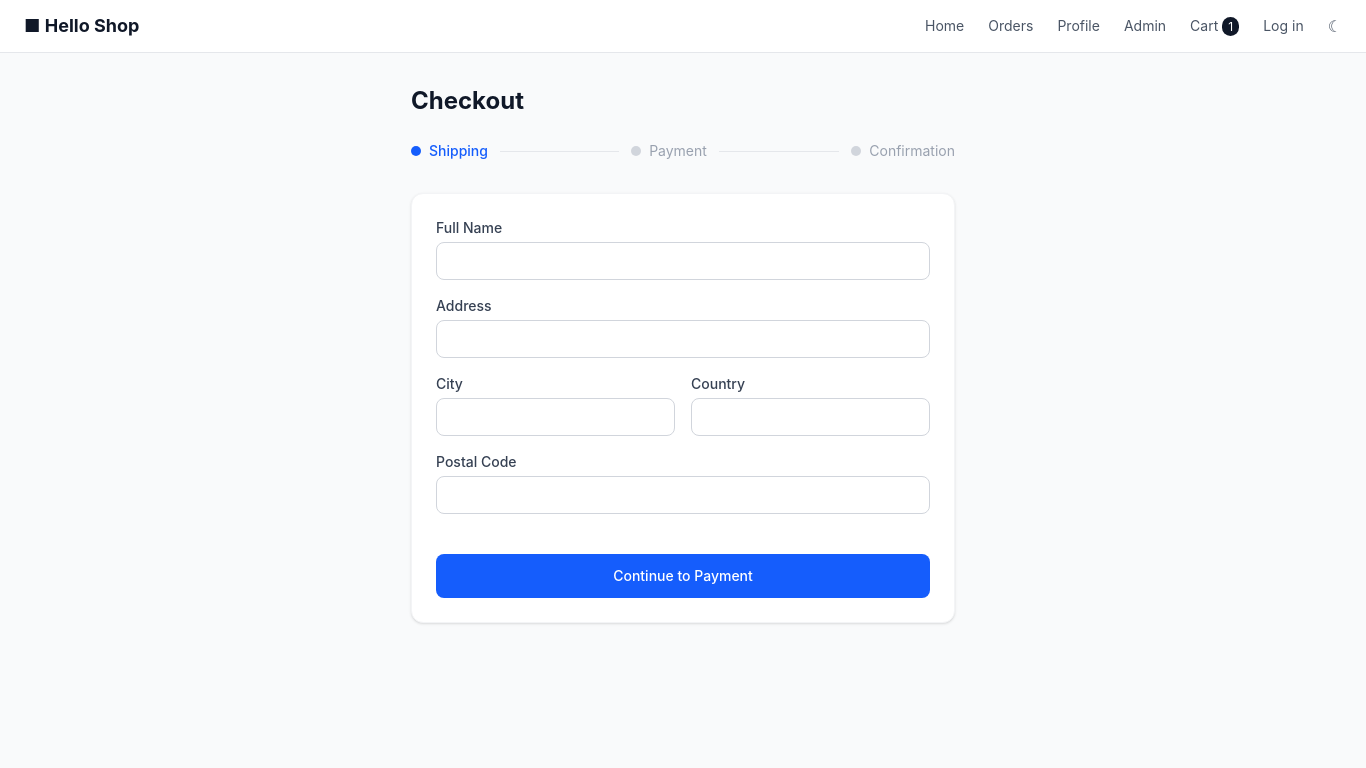
Checkout accessibility › payment step has no axe violations
The image size is (1366, 768).
Expected: the button "Continue to Payment" is shown, [436,554,930,598]
Type "Alex Johnson" into the field labelled "Full Name" at (683, 261), box [436,242,930,280]
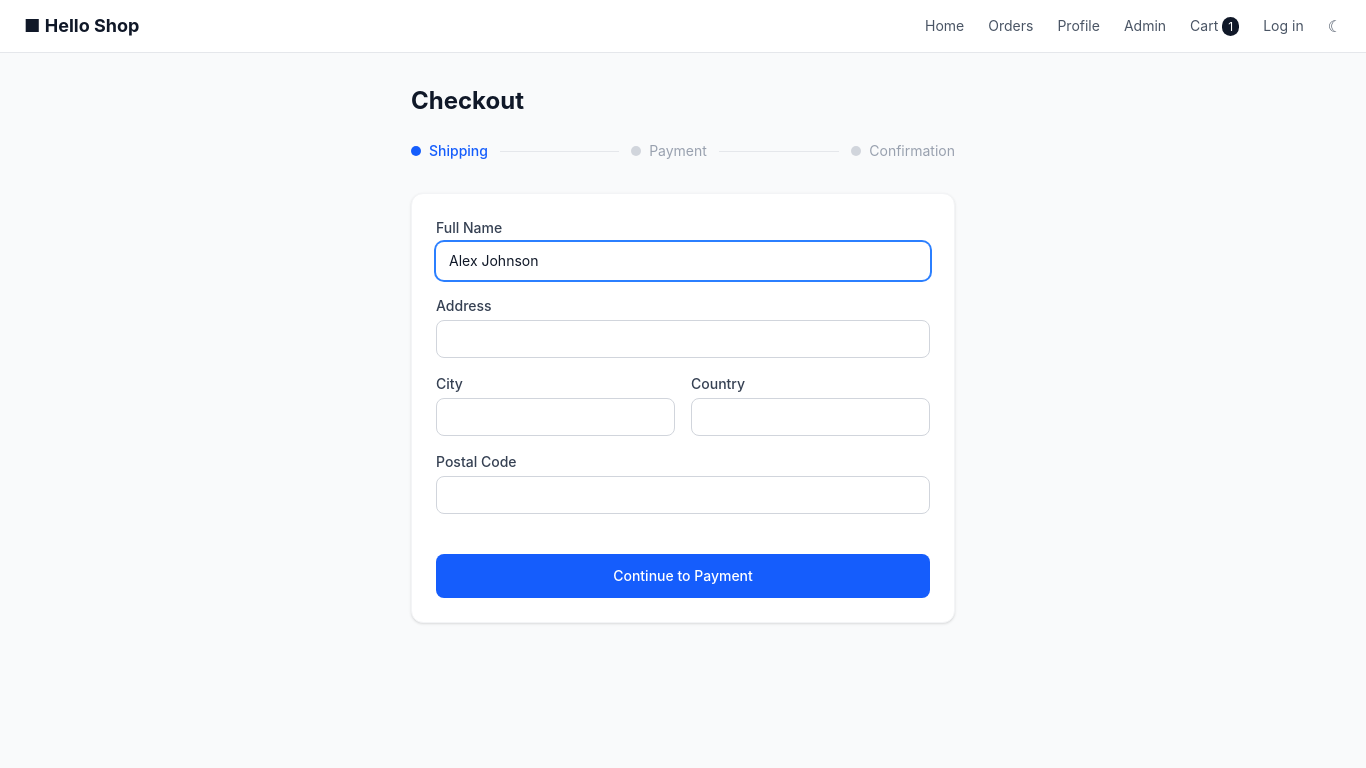
Type "123 Main St" into the field labelled "Address" at (683, 339), box [436,320,930,358]
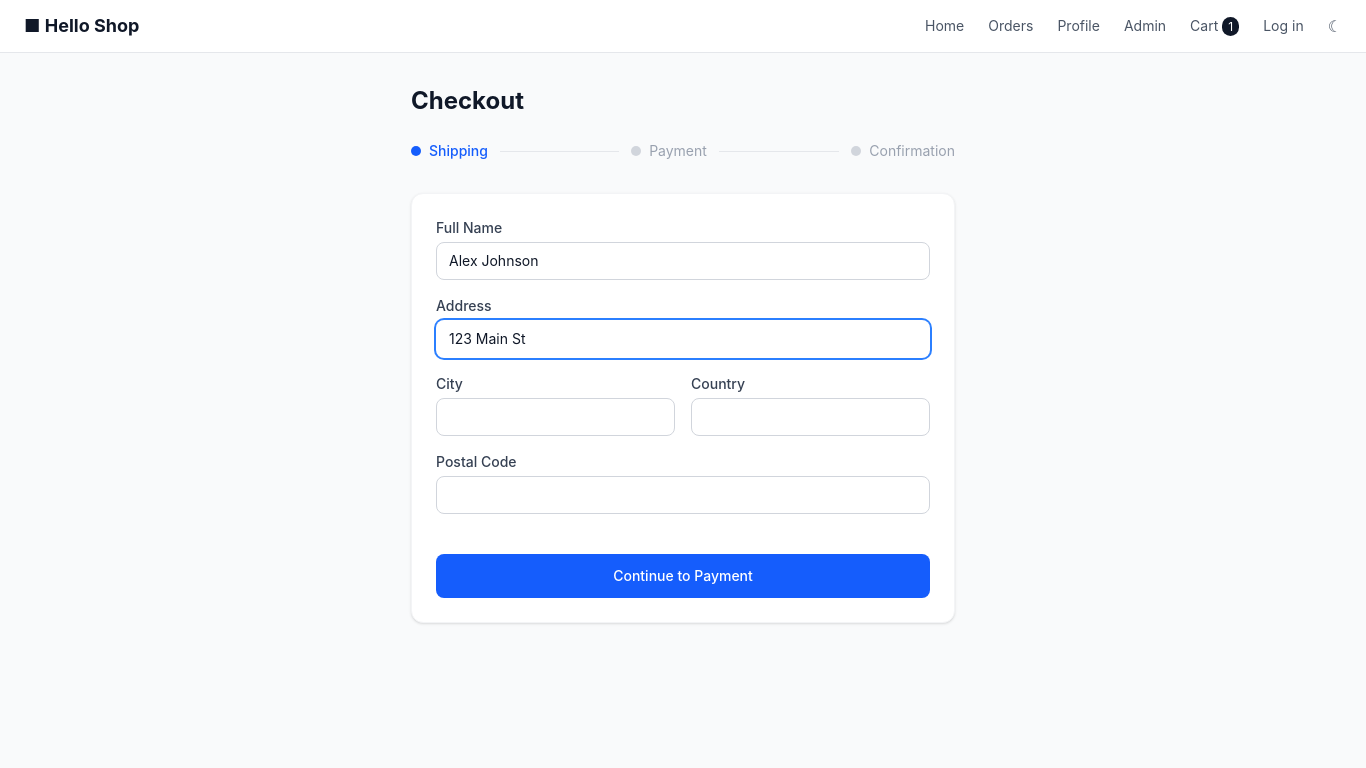
Type "Portland" into the field labelled "City" at (556, 417), box [436,398,675,436]
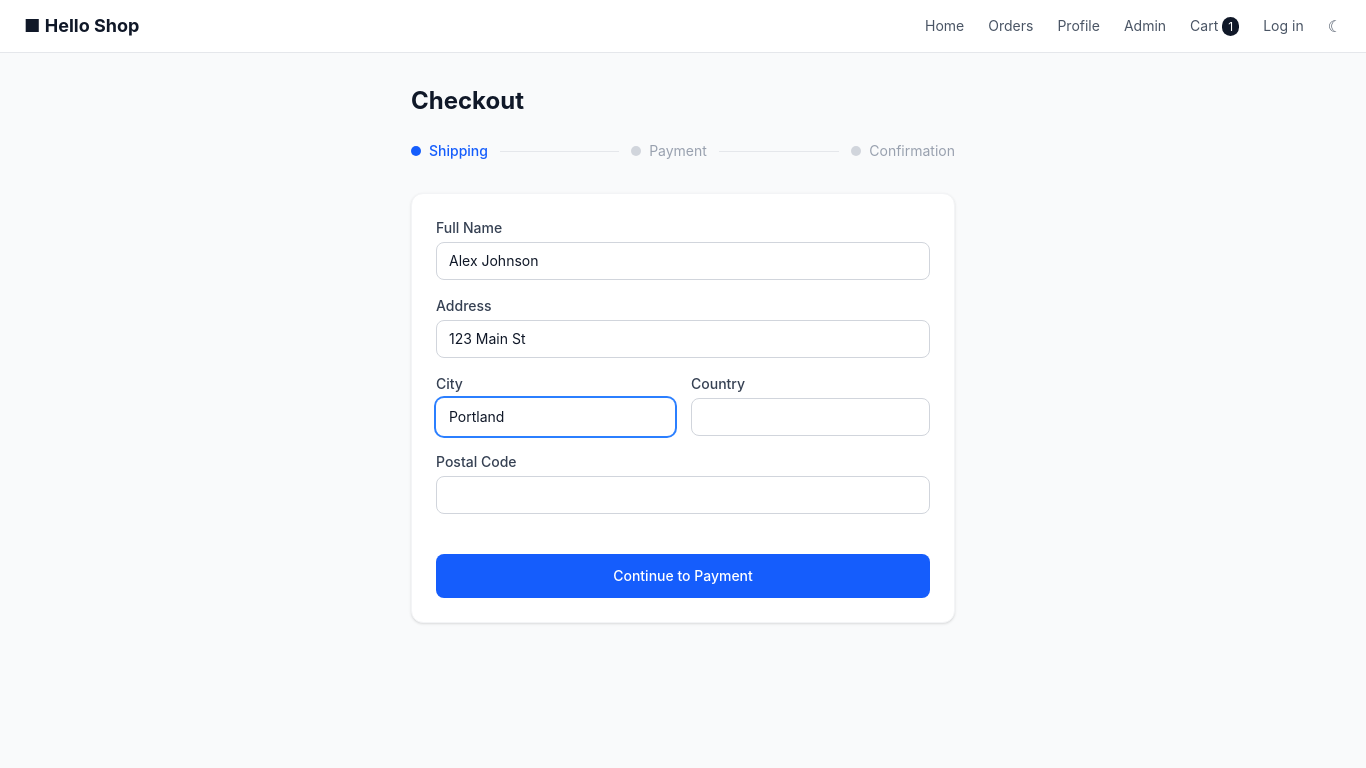
Type "US" into the field labelled "Country" at (810, 417), box [691,398,930,436]
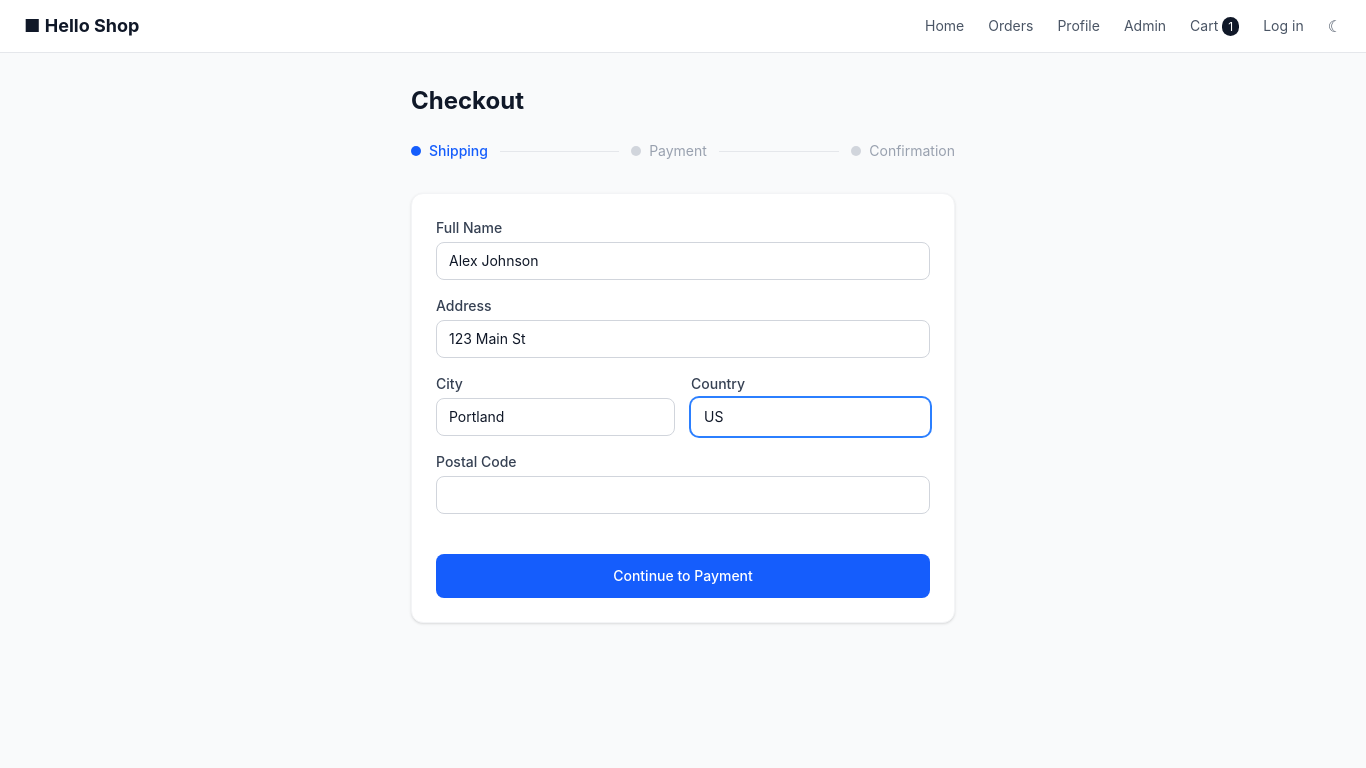
Type "97201" into the field labelled "Postal Code" at (683, 495), box [436,476,930,514]
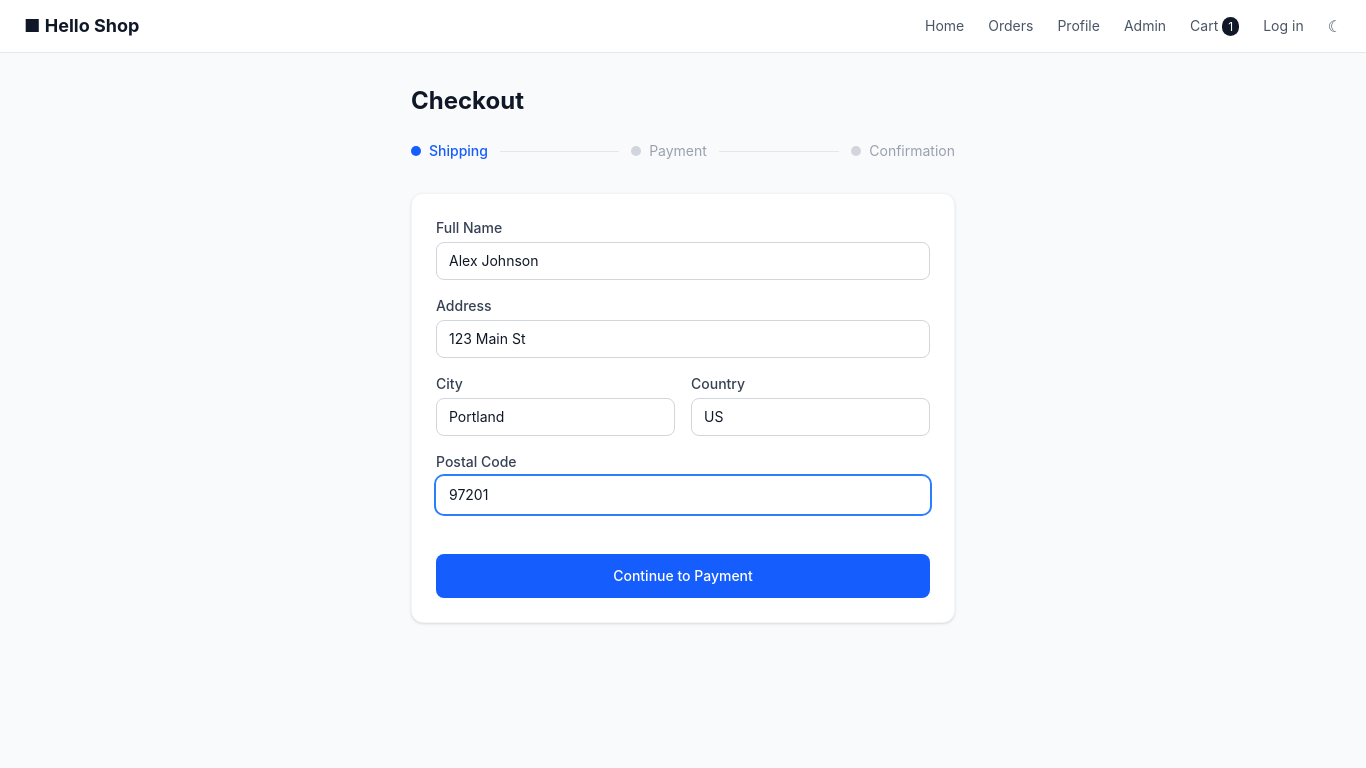
Click the button "Continue to Payment" at (683, 576), box [436,554,930,598]
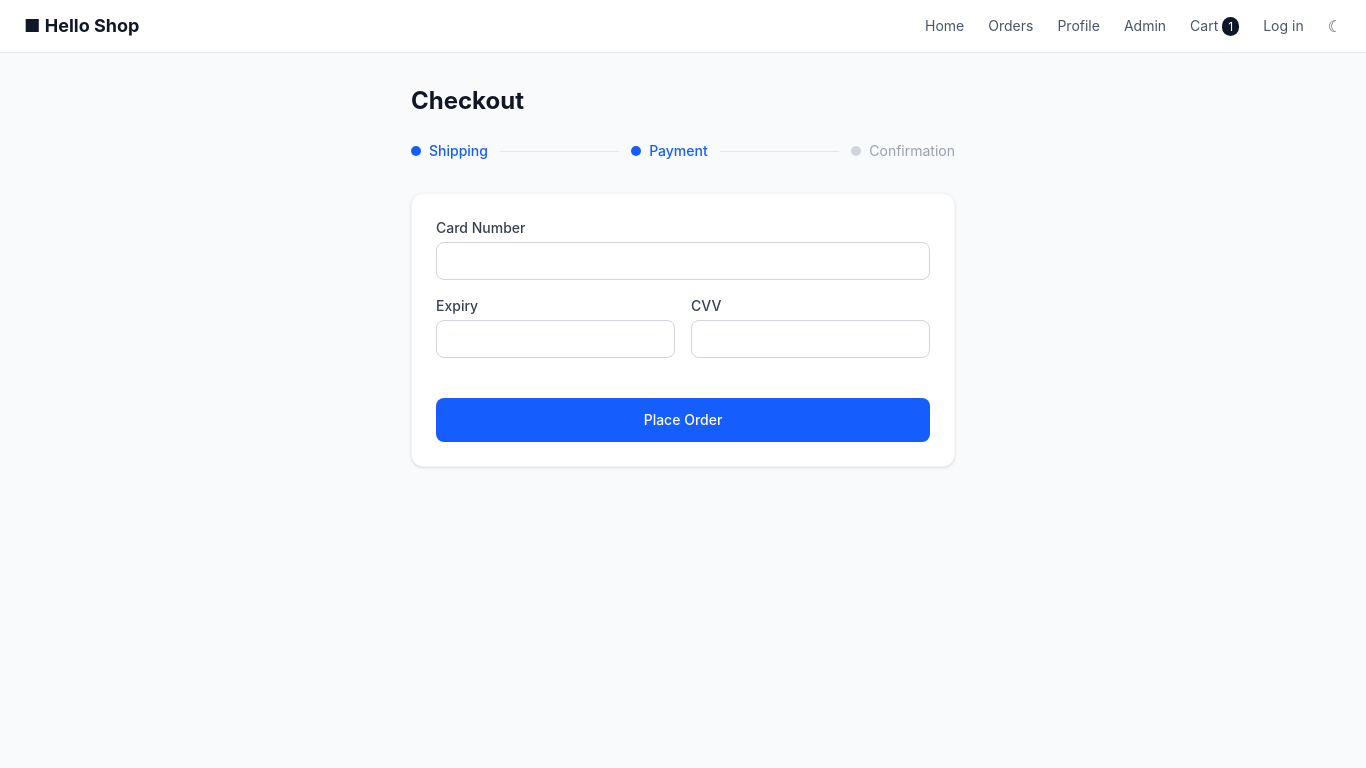
Expected: the button "Place Order" is shown, [436,398,930,442]
